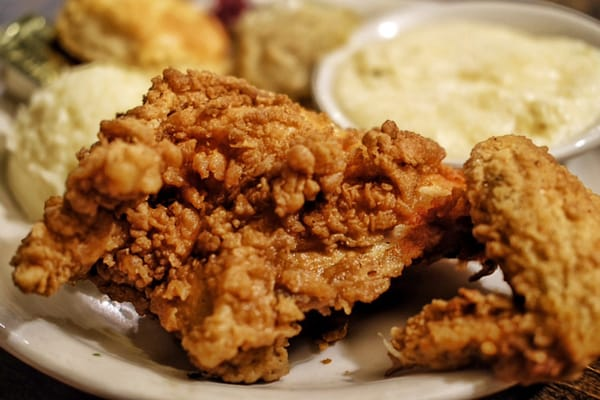sushi: (6, 67, 483, 383)
